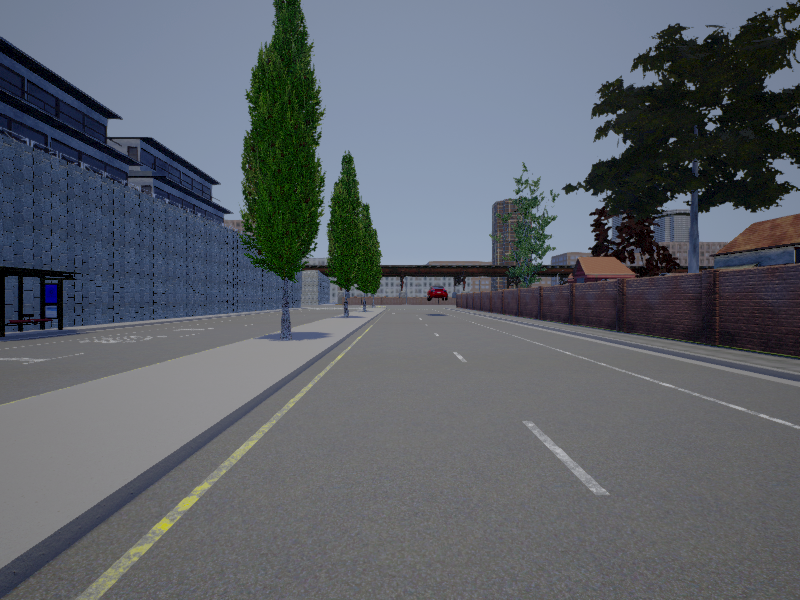Attacker: (427, 287, 448, 303)
